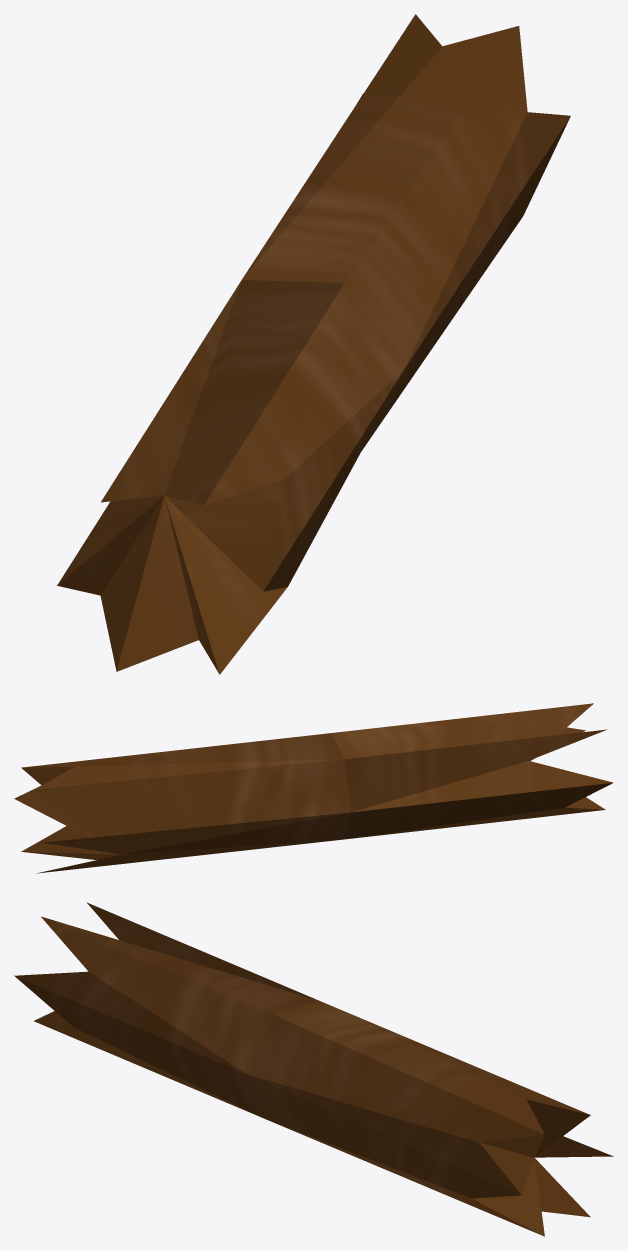
The model's file is Tronco.fbx.
3 views of the same model, one above another, from view 1: azimuth 30°, elevation 25°; view 2: azimuth 150°, elevation 25°; view 3: azimuth 270°, elevation 25° (orthographic). The views are drawn at different scales.
Parts seen in each view (by area): view 1: Tronco; view 2: Tronco; view 3: Tronco.
Part boxes in pixels (left/top/right/bottom): Tronco: left=57, top=14, right=570, bottom=674; Tronco: left=14, top=703, right=613, bottom=873; Tronco: left=14, top=902, right=613, bottom=1236.
Bounding box in the file's own units: 280 × 60.92 × 280.
